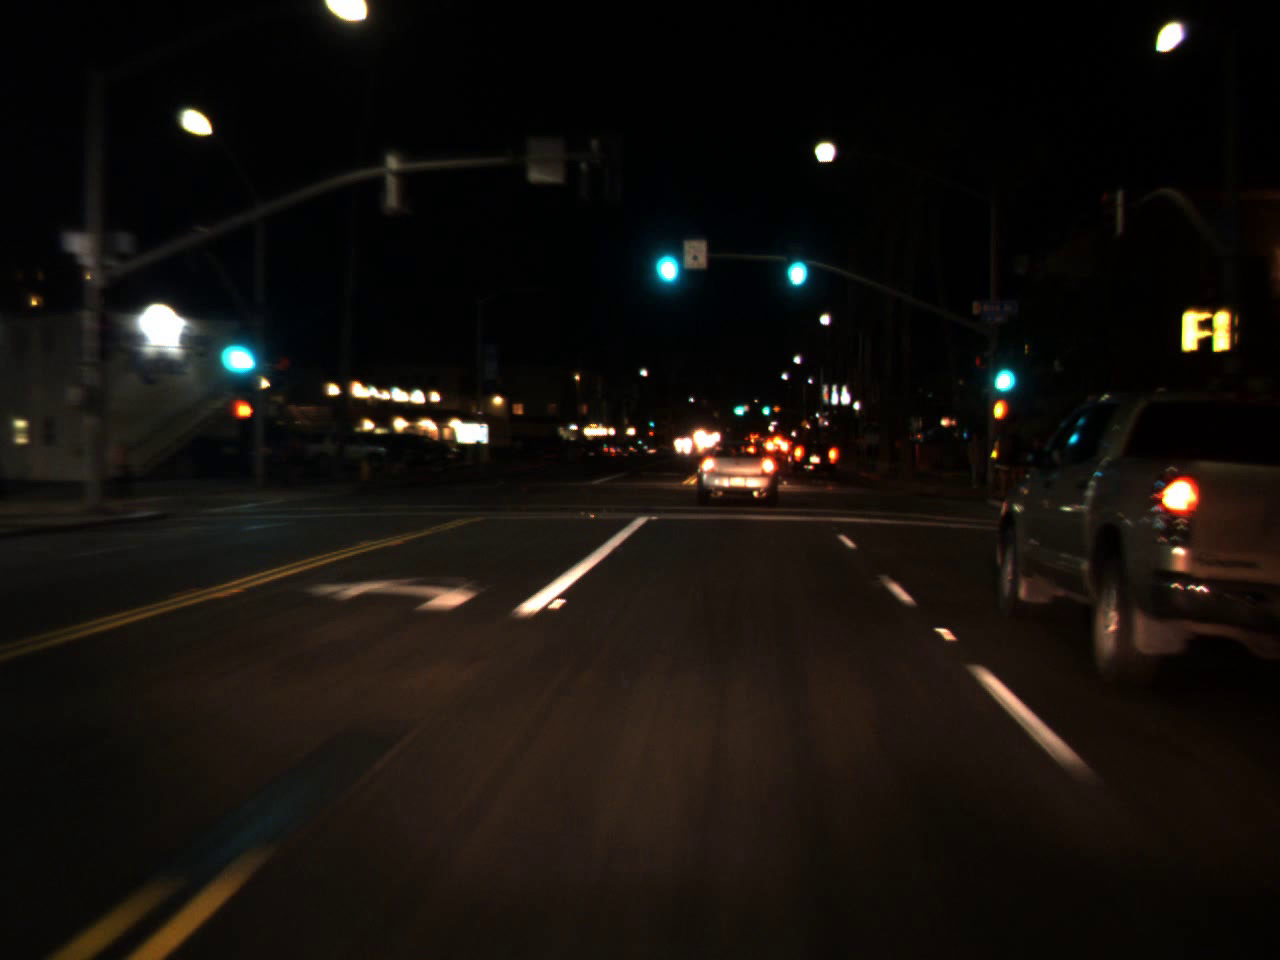go: (208, 307, 260, 385), (646, 221, 683, 293), (985, 338, 1019, 401), (779, 233, 811, 293), (729, 396, 747, 417), (759, 399, 768, 414), (647, 416, 654, 428)
